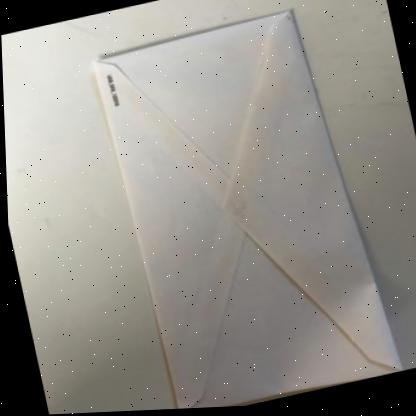Paper: (93, 12, 397, 410)
